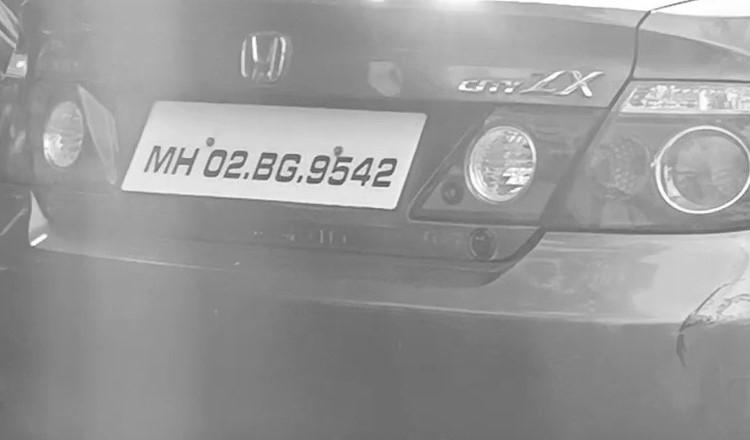number_plate: (140, 106, 405, 202)
